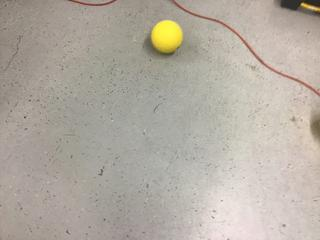power_cell: (151, 19, 184, 57)
